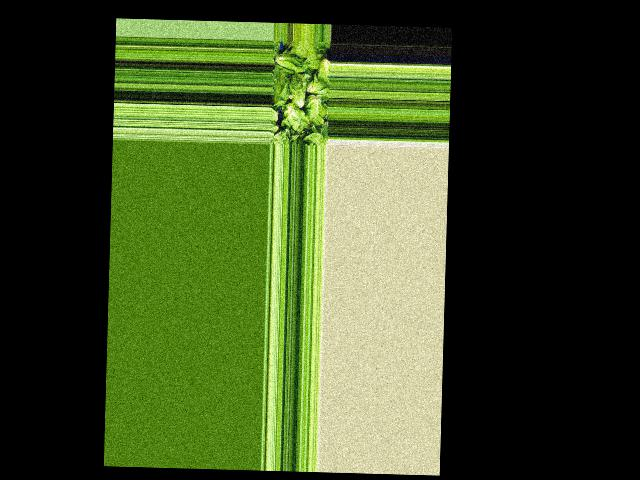lettuce: (316, 53, 330, 88)
